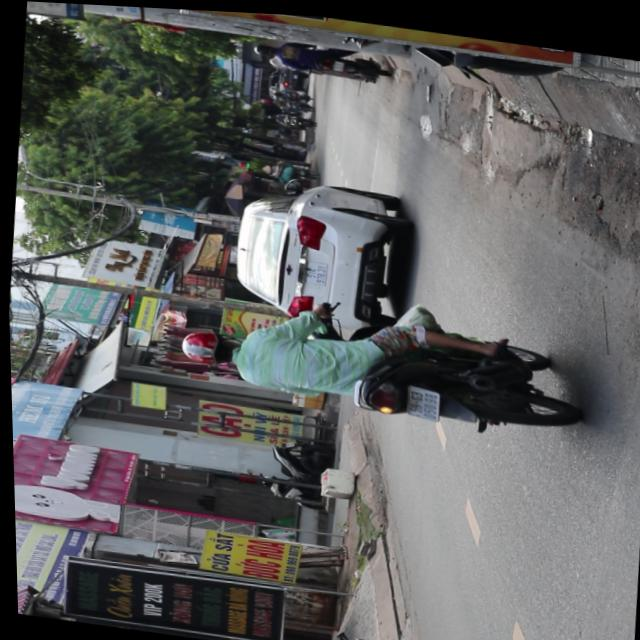helmet: (174, 324, 234, 366)
licenseplate: (166, 268, 592, 443)
nohelmet: (403, 381, 437, 416)
